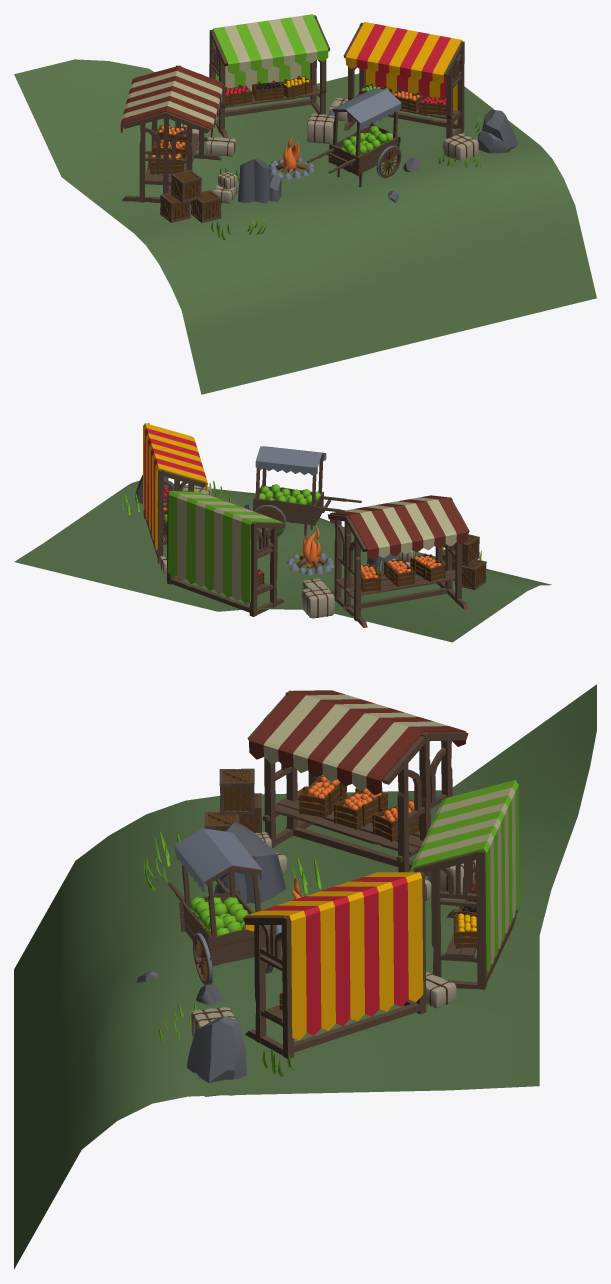
File: market-scene.gltf
3 views of the same model, one above another, from view 1: azimuth 30°, elevation 25°; view 2: azimuth 150°, elevation 25°; view 3: azimuth 270°, elevation 25° (orthographic). The views are drawn at different scales.
Visible parts, largest first — view 1: Market Scene; view 2: Market Scene; view 3: Market Scene.
Part boxes in pixels (x1=…): Market Scene: x1=14, y1=14, x2=596, y2=394; Market Scene: x1=14, y1=423, x2=551, y2=642; Market Scene: x1=14, y1=684, x2=596, y2=1269.
Size of the model in its own units: 2.74 by 1.37 by 2.25.
Materials: 2 (2 with a texture image).
